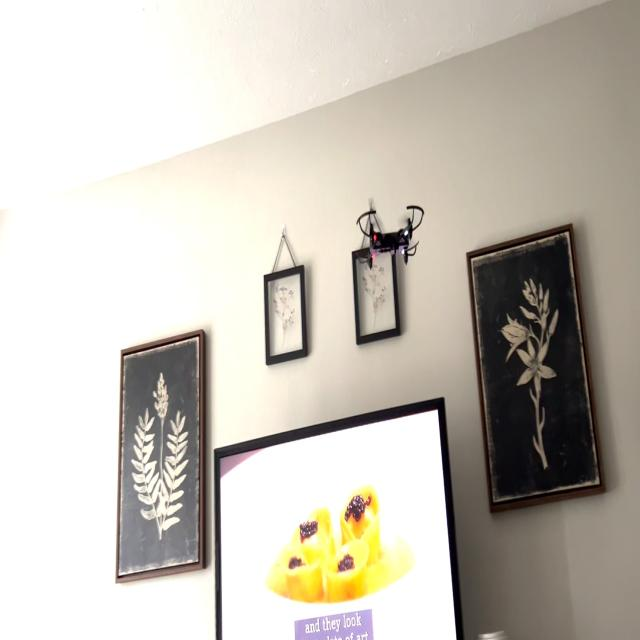drone: (352, 194, 428, 274)
